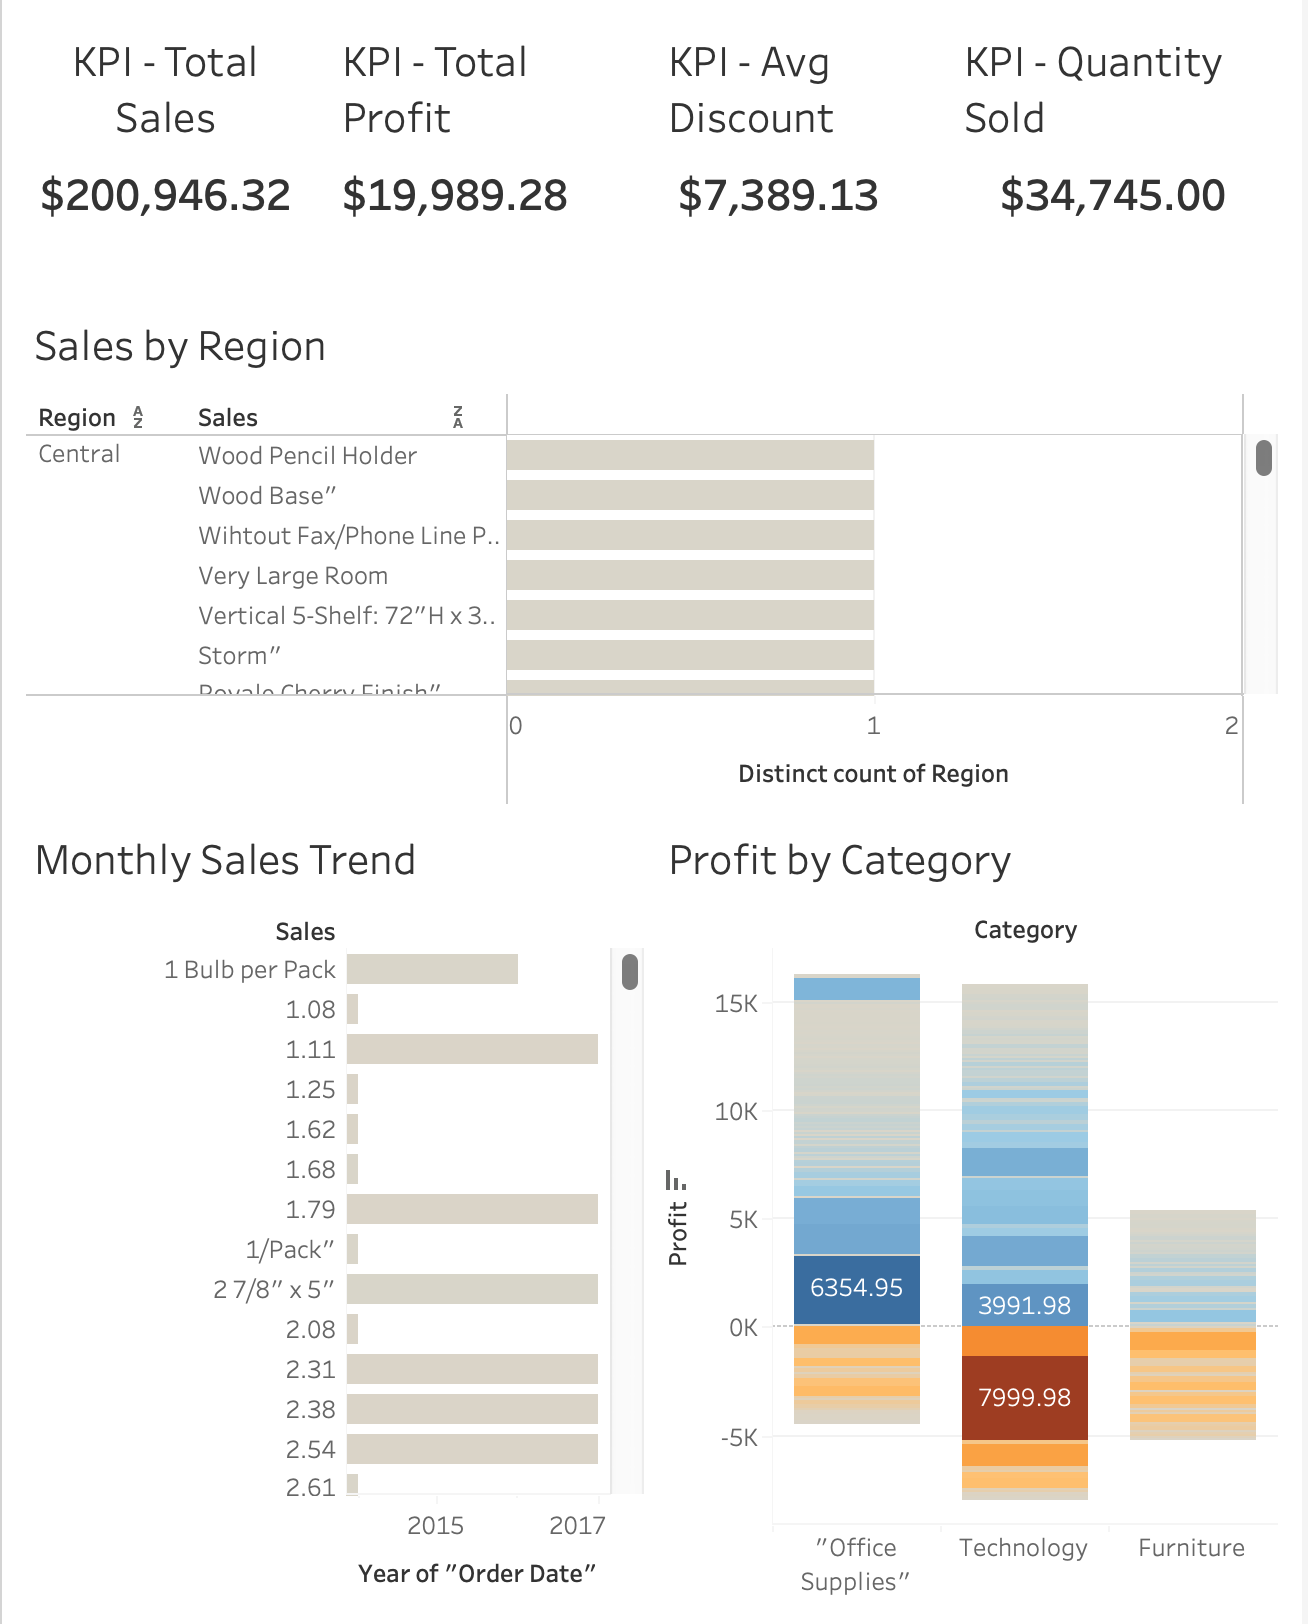

What the dashboard file says about the page in this screenshot:
{"tool":"tableau","page":{"name":"Dashboard 2","canvas":[650,860],"ordinal":0},"visuals":[{"type":"worksheet","title":"KPI - Total Sales","mark":"Text","box":[8,8,154,149.9]},{"type":"worksheet","title":"KPI - Total Profit","mark":"Automatic","box":[162,8,163,149.9]},{"type":"worksheet","title":"KPI - Avg Discount","mark":"Automatic","box":[325,8,148,149.9]},{"type":"worksheet","title":"KPI - Quantity Sold","mark":"Automatic","box":[473,8,169,149.9]},{"type":"worksheet","title":"Sales by Region","mark":"Automatic","rows":["Region","Sales"],"cols":["Region"],"box":[8,157.9,634,272.1]},{"type":"worksheet","title":"Monthly Sales Trend","mark":"Bar","rows":["Sales"],"cols":["\"Order Date\""],"box":[8,430,317,422]},{"type":"worksheet","title":"Profit by Category","mark":"Automatic","rows":["Profit"],"cols":["Category"],"box":[325,430,317,422]}]}

Visuals, with their boxes on the page's 650x860 design canvas (x1, y1, x2, y2). These are canvas units, not pixel positions in the 1308x1624 screenshot, which may show the page scaled, cropped or inside an application window:
"KPI - Total Sales" worksheet (Text marks): [8, 8, 162, 158]
"KPI - Total Profit" worksheet: [162, 8, 325, 158]
"KPI - Avg Discount" worksheet: [325, 8, 473, 158]
"KPI - Quantity Sold" worksheet: [473, 8, 642, 158]
"Sales by Region" worksheet: [8, 158, 642, 430]
"Monthly Sales Trend" worksheet (Bar marks): [8, 430, 325, 852]
"Profit by Category" worksheet: [325, 430, 642, 852]
